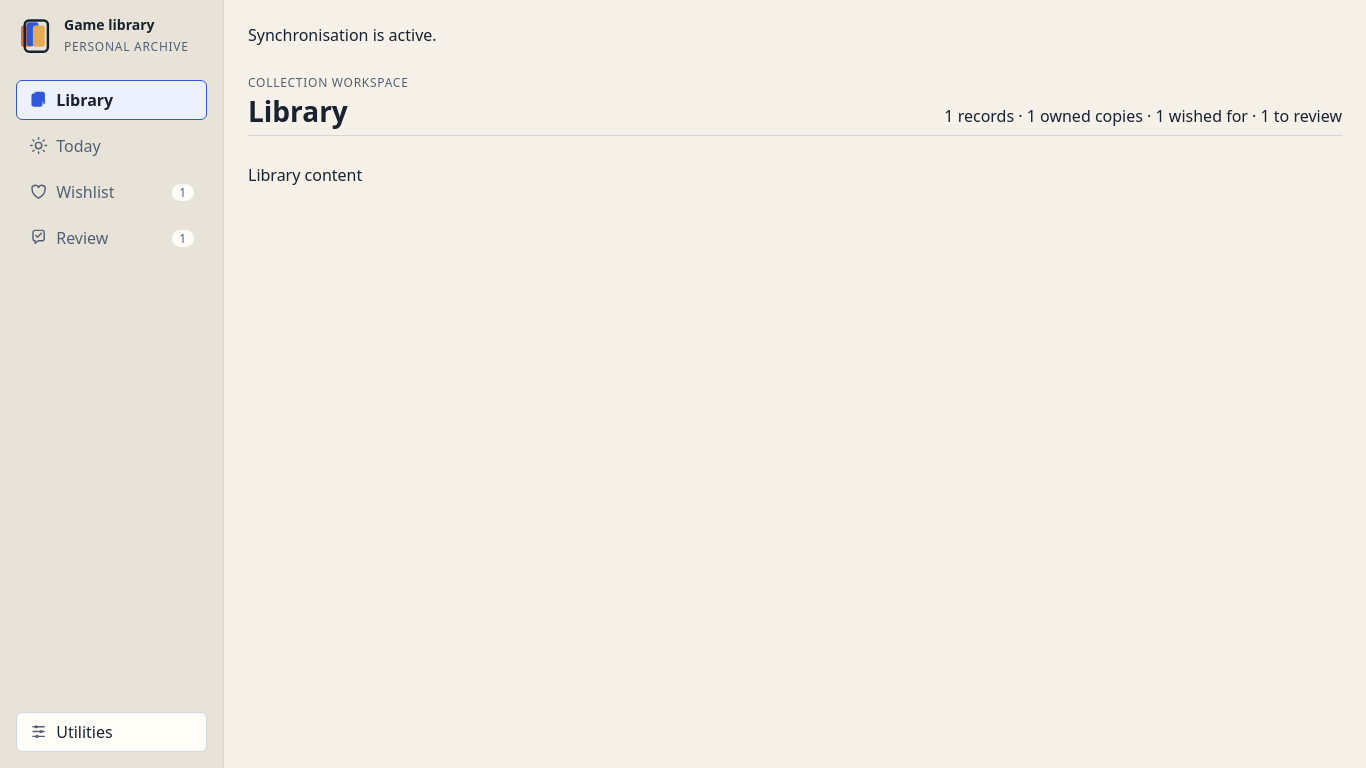
AppShell › keeps navigation and maintenance actions reachable
Expected: the button "Library" is shown, top-left (16, 80), bottom-right (207, 120)
Expected: the button "Today" is shown, top-left (16, 126), bottom-right (207, 166)
Click the button "Utilities": (112, 732) top-left (16, 712), bottom-right (207, 752)
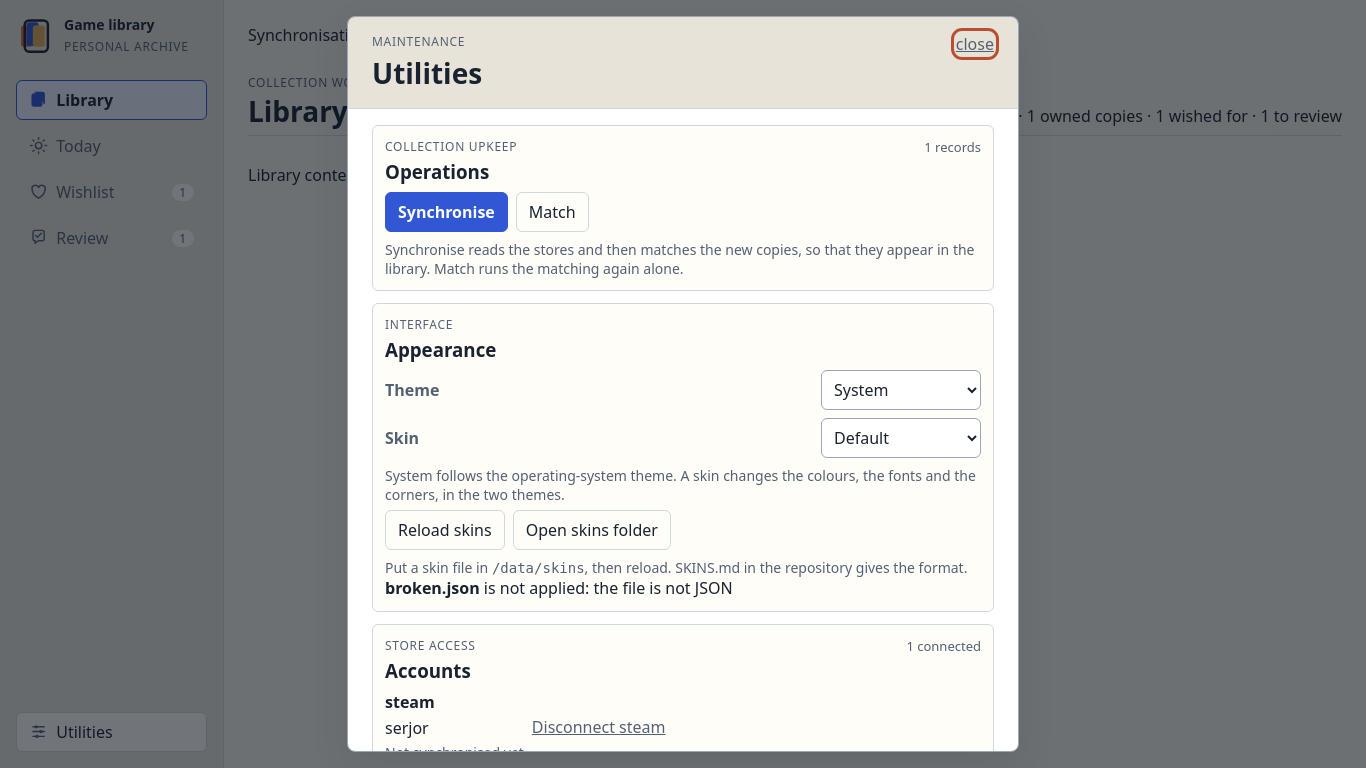
Result: the button "Synchronise" is shown at top-left (385, 192), bottom-right (508, 232)
Result: the button "Match" is shown at top-left (516, 192), bottom-right (589, 232)
Result: the button "Disconnect steam" is shown at top-left (532, 716), bottom-right (666, 738)
Select "Dark" in the dropdown labelled "Theme": (901, 390) top-left (821, 370), bottom-right (981, 410)
Result: the dropdown labelled "Skin" shows "Default"
Select "Souls" in the dropdown labelled "Skin": (901, 438) top-left (821, 418), bottom-right (981, 458)
Result: the text "/data/skins" is shown at top-left (492, 560), bottom-right (585, 576)
Result: the list named "Skin files" reads "broken.json is not applied: the file is not JSON" at top-left (385, 577), bottom-right (733, 599)
Result: the button "Reload skins" is shown at top-left (385, 510), bottom-right (505, 550)
Click the button with aria-label "Close Utilities": (975, 44) top-left (956, 33), bottom-right (994, 55)
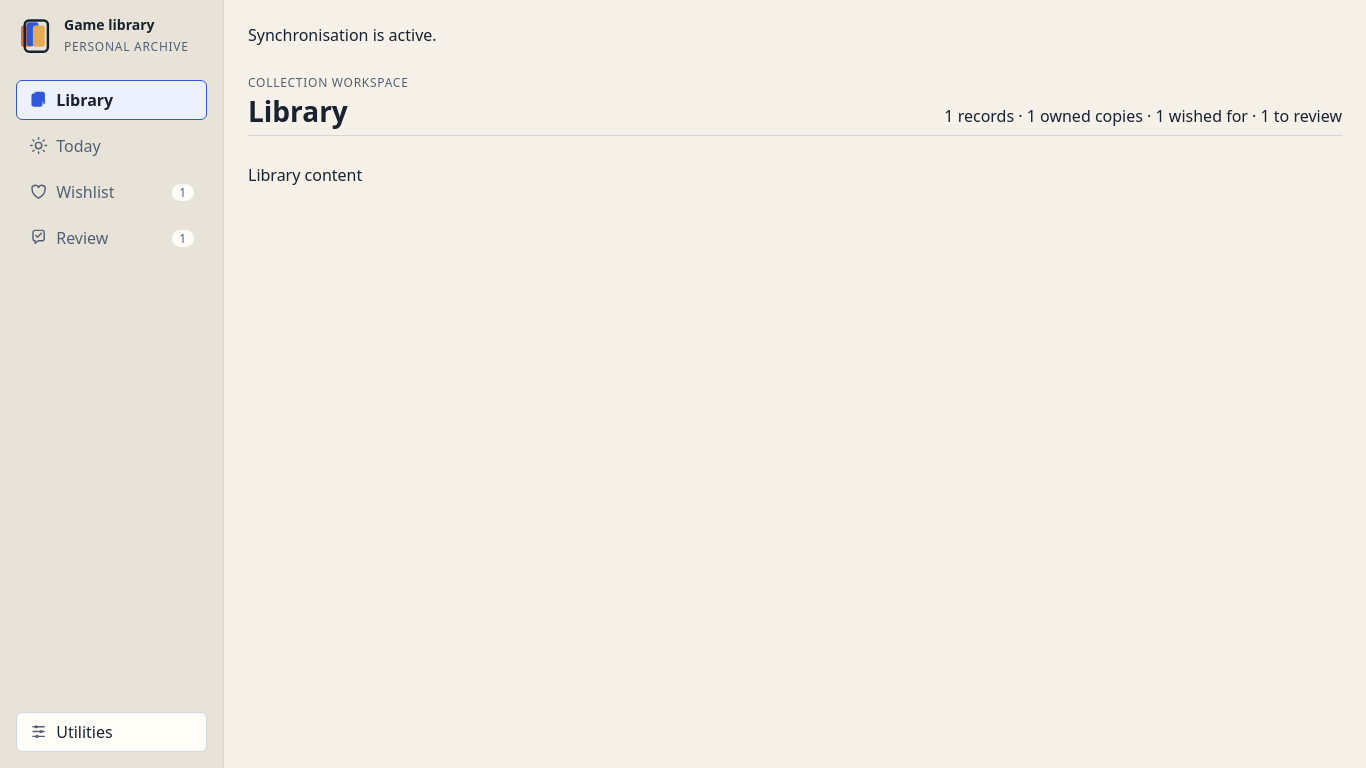
Result: the dialog is gone
Result: the button "Utilities" is collapsed at top-left (16, 712), bottom-right (207, 752)
